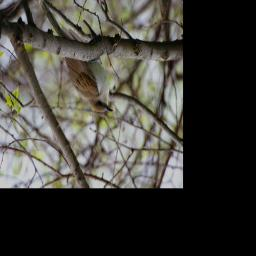Cuckoo: (38, 0, 114, 112)
